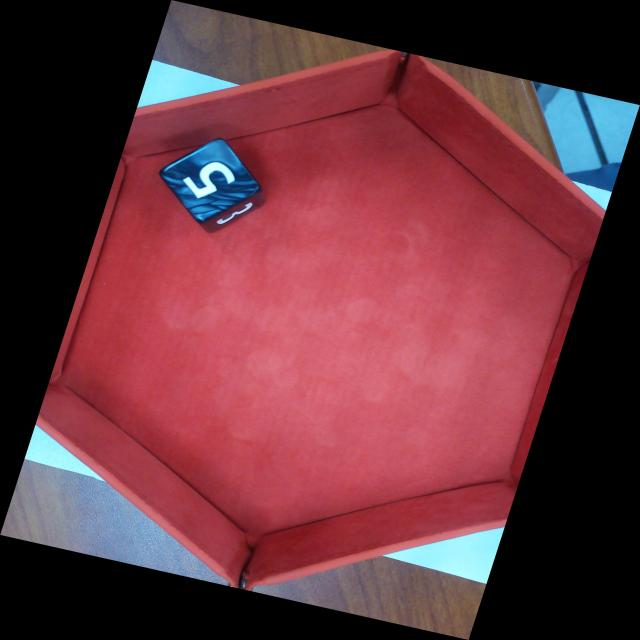dice: (165, 142, 260, 220)
